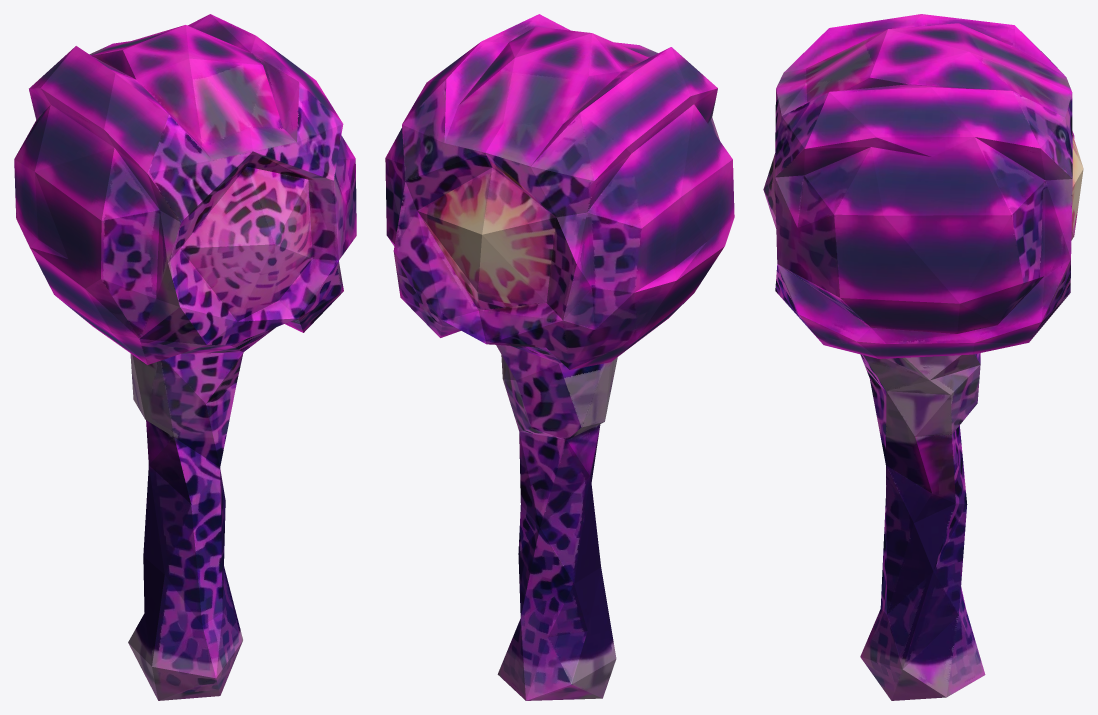
Rendered from magic_staff_1.glb.
The picture shows the model from 3 angles, left to right: view 1: azimuth 30°, elevation 25°; view 2: azimuth 150°, elevation 25°; view 3: azimuth 270°, elevation 25°; orthographic projection.
Parts seen in each view (by area): view 1: TexturedMesh_.obj; view 2: TexturedMesh_.obj; view 3: TexturedMesh_.obj.
Part boxes in pixels (left/top/right/bottom): TexturedMesh_.obj: left=14, top=14, right=356, bottom=700; TexturedMesh_.obj: left=385, top=14, right=734, bottom=700; TexturedMesh_.obj: left=763, top=14, right=1083, bottom=700.
Bounding box in the file's own units: 0.8665 × 1.97 × 0.8743.
1 material, 1 textured.
